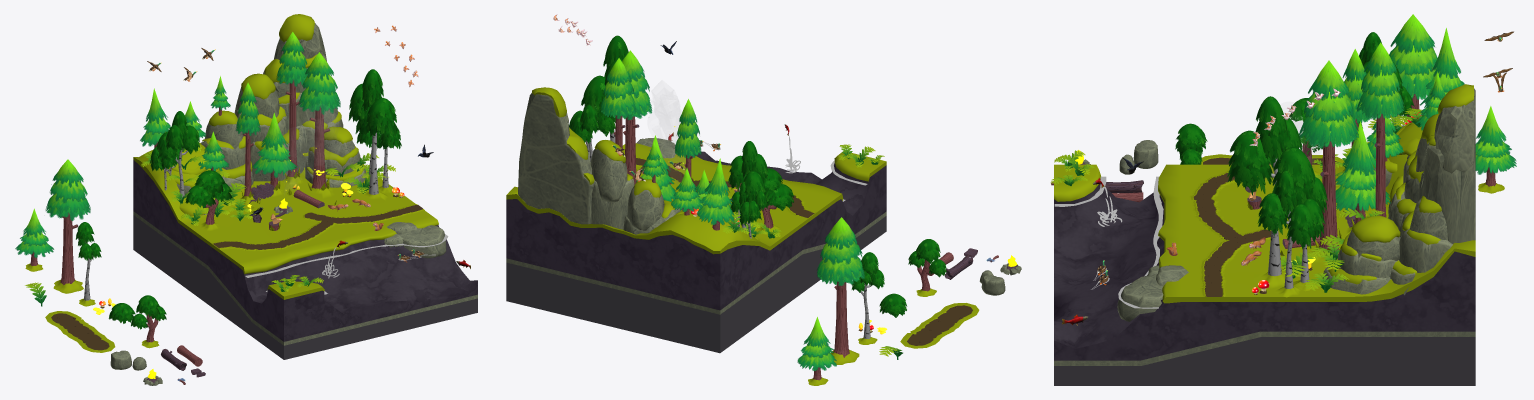
The picture shows the model from 3 angles, left to right: view 1: azimuth 30°, elevation 25°; view 2: azimuth 150°, elevation 25°; view 3: azimuth 270°, elevation 25°; orthographic projection. The views are drawn at different scales.
Parts seen in each view (by area): view 1: polySurface119, polySurface109, rocks_geo, wood_geo, birch_folliage, fern_grp6, rocks_geo3, cedar_tree_trunk, smoke_geo, birch_folliage1, rocks_geo4, path_main_piece_geo (+4 smaller); view 2: polySurface119, rocks_geo3, polySurface109, rocks_geo, cedar_tree_trunk, birch_folliage1, birch_folliage, path_main_piece_geo, wood_geo, polySurface87, smoke_geo, fir_tree_trunk_geo (+3 smaller); view 3: polySurface119, polySurface109, birch_folliage, rocks_geo3, rocks_geo, wood_geo, fern_grp6, cedar_tree_trunk, rocks_geo4, fir_tree_trunk_geo, polySurface87, mat_water2 (+8 smaller).
Boxes of the visible parts, x1,y1,x2,y2 form: polySurface119: (133,73,477,359); polySurface109: (198,32,340,177); rocks_geo: (177,87,366,215); wood_geo: (202,79,388,230); birch_folliage: (348,69,401,149); fern_grp6: (141,145,395,291); rocks_geo3: (263,14,326,129); cedar_tree_trunk: (45,159,90,284); smoke_geo: (285,115,339,191); birch_folliage1: (150,111,199,171); rocks_geo4: (384,222,446,258); path_main_piece_geo: (45,311,115,352); polySurface119: (506,140,886,353); rocks_geo3: (518,87,594,224); polySurface109: (600,50,709,209); rocks_geo: (590,148,690,234); cedar_tree_trunk: (817,217,864,356); birch_folliage1: (728,141,768,226); birch_folliage: (569,35,628,143); path_main_piece_geo: (900,303,979,348); wood_geo: (585,115,776,228); polySurface87: (697,158,734,225); smoke_geo: (652,90,685,173); fir_tree_trunk_geo: (797,317,836,375); polySurface119: (1054,113,1475,385); polySurface109: (1299,42,1404,212); birch_folliage: (1227,96,1327,249); rocks_geo3: (1417,84,1475,243); rocks_geo: (1323,138,1452,295); wood_geo: (1245,114,1387,288); fern_grp6: (1050,108,1423,292); cedar_tree_trunk: (1389,14,1437,122); rocks_geo4: (1117,265,1188,321); fir_tree_trunk_geo: (1475,106,1516,180); polySurface87: (1420,28,1464,107); mat_water2: (1054,176,1163,308).
Size of what is drawn, in the model's own units: 87.97 by 52.42 by 73.34.
Materials: 22 (16 with a texture image).
